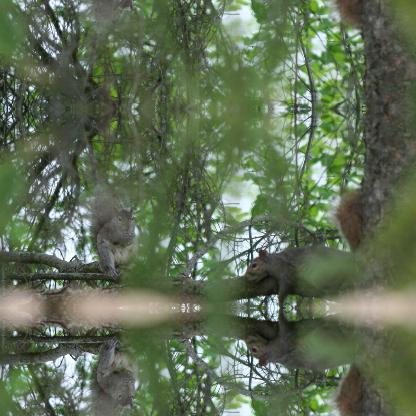Squirrel: (244, 190, 364, 306), (244, 308, 365, 415), (82, 190, 138, 280), (82, 335, 139, 415), (244, 0, 365, 27), (82, 0, 139, 26)
